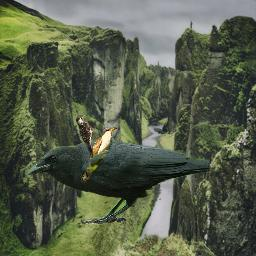Crow: (26, 140, 211, 226)
Cuckoo: (80, 126, 118, 183)
Woodpecker: (76, 115, 97, 157)
